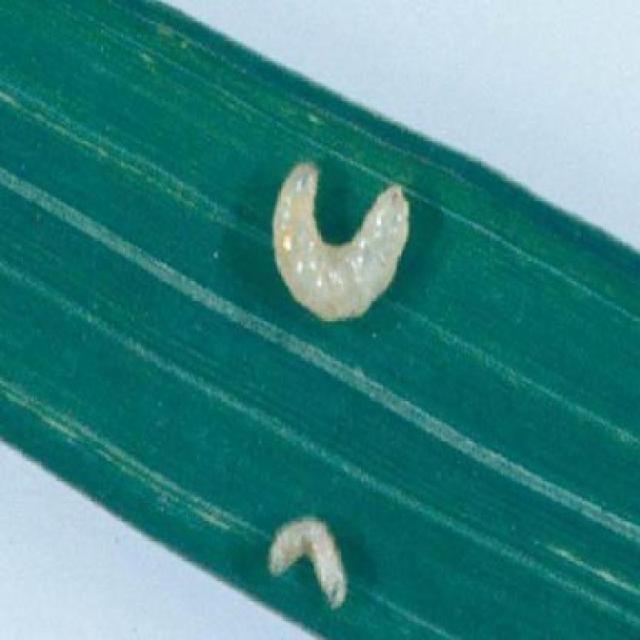whorl-maggot: (268, 146, 412, 340), (260, 499, 355, 618)
